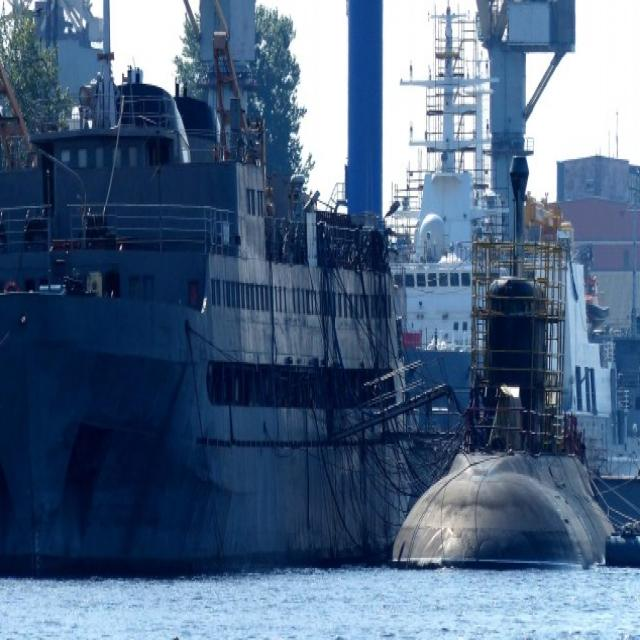submarine: (397, 259, 624, 576)
